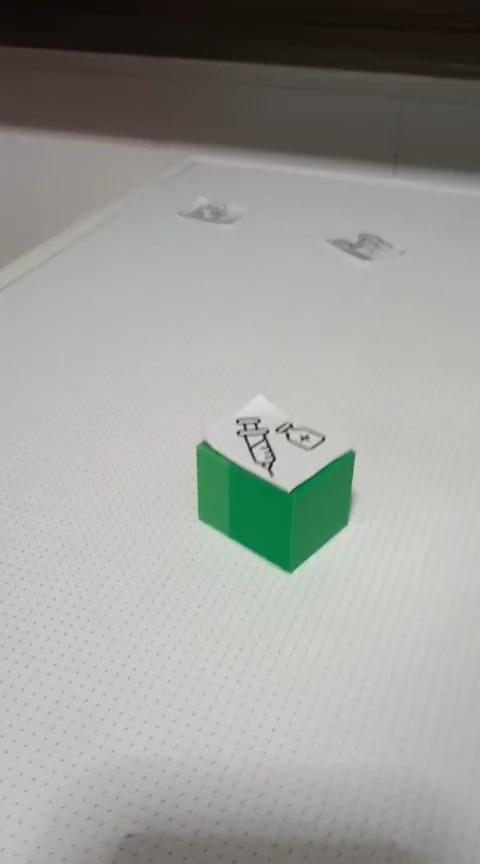antiseptic cream: (194, 391, 356, 573)
